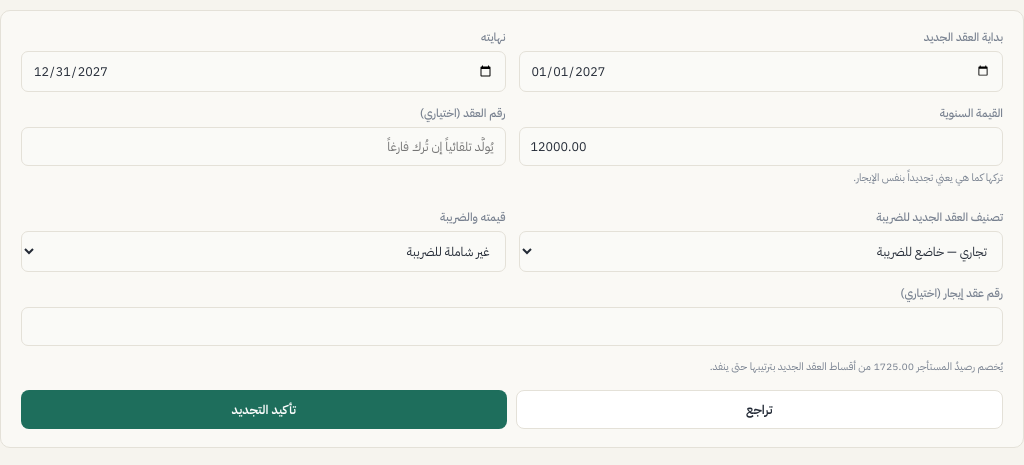
Test: ⚖️ رصيدُ المستأجر في نافذة التجديد (ق-١٦٣٧) › ⭐ وتصنيفٌ آخر يُظهر سطرَ «لم يُخصم لتغيّر التصنيف»
Select "سكني — معفى من ضريبة القيمة المضافة" in the dropdown below "تصنيف العقد الجديد للضريبة" at (761, 251), box [518,230,1003,272]
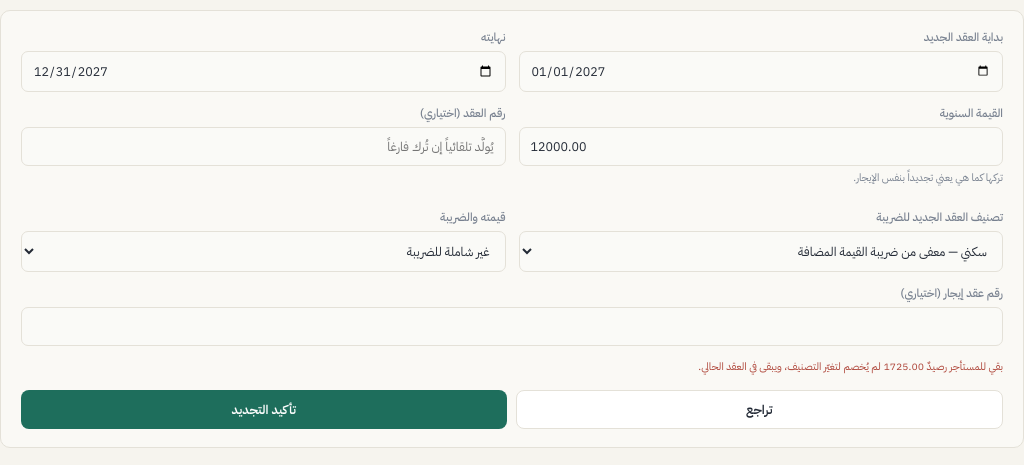
Now the text "لم يُخصم لتغيّر التصنيف" is shown, box [698,358,1003,374]
